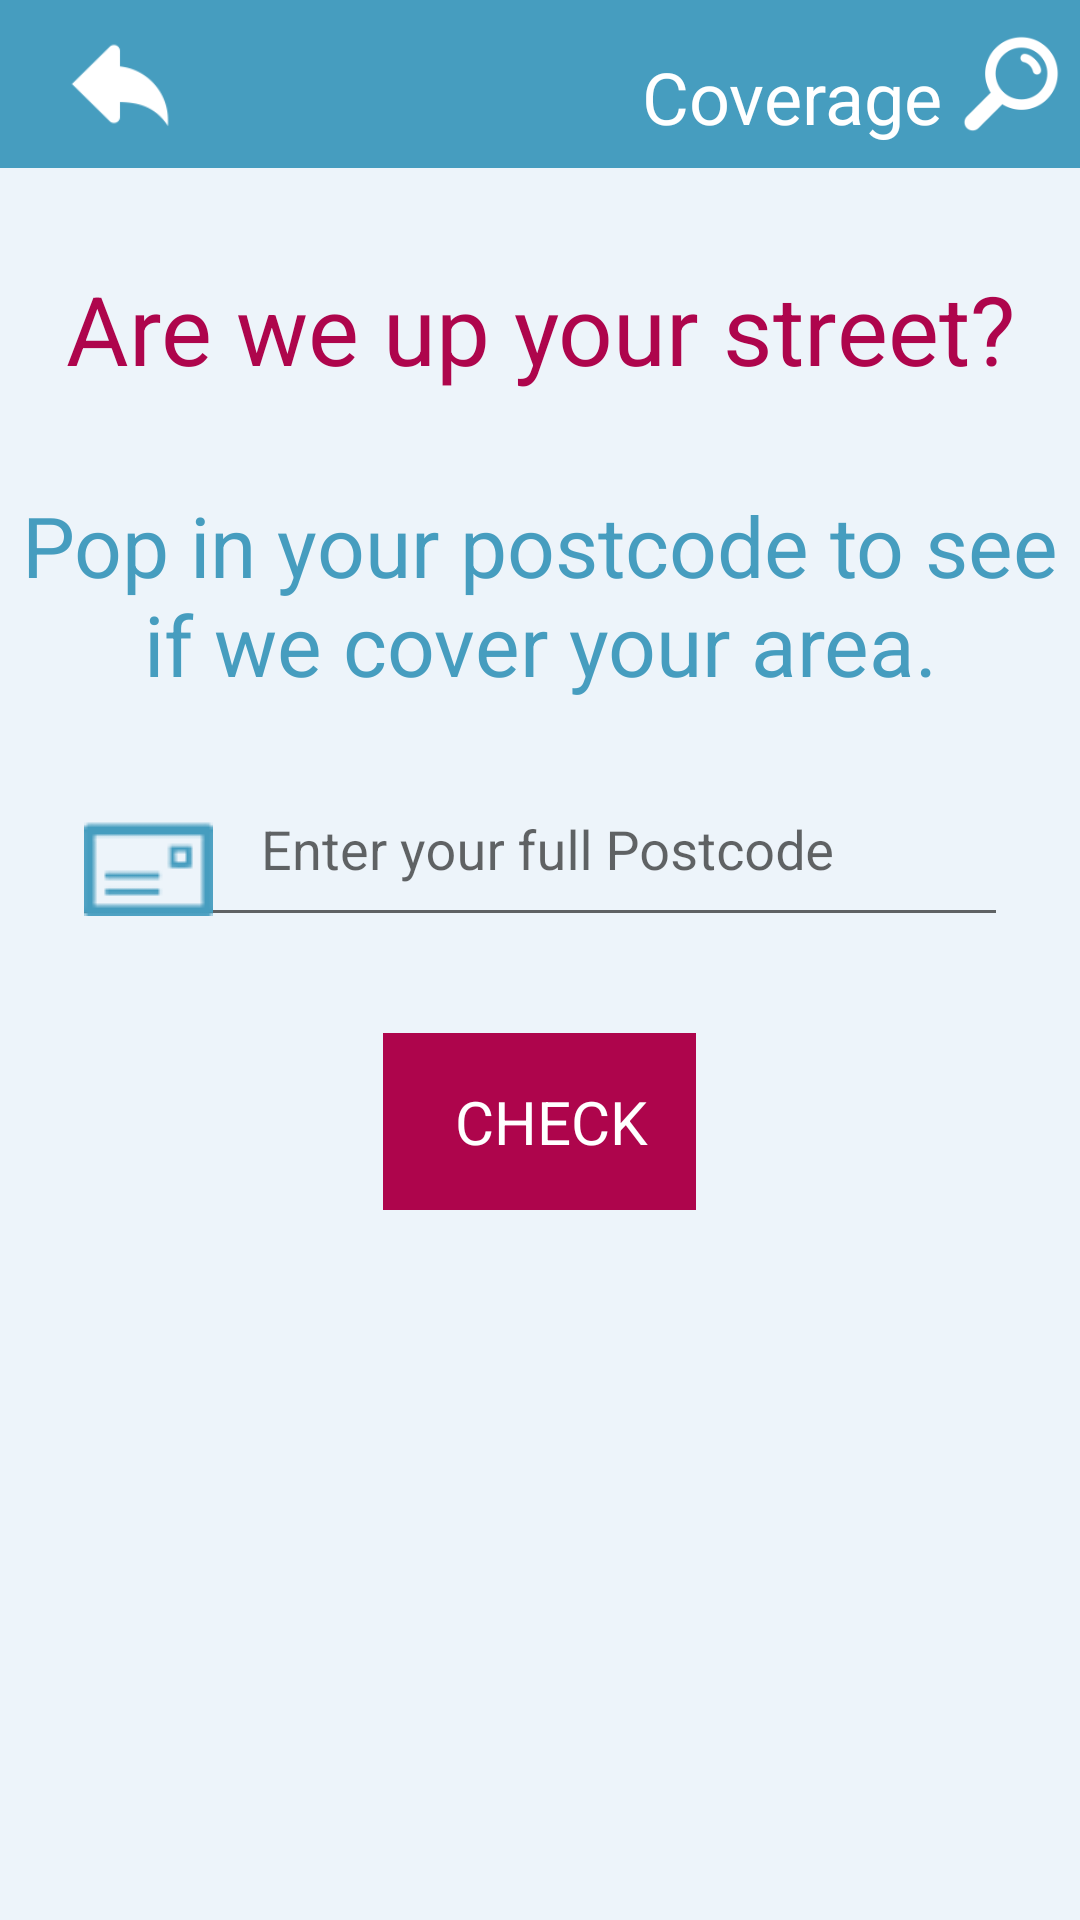

Named icons in this screenshot (1080×1920) and their centers, (x=x, y=y):
back: (x=120, y=85)
search: (x=1011, y=84)
